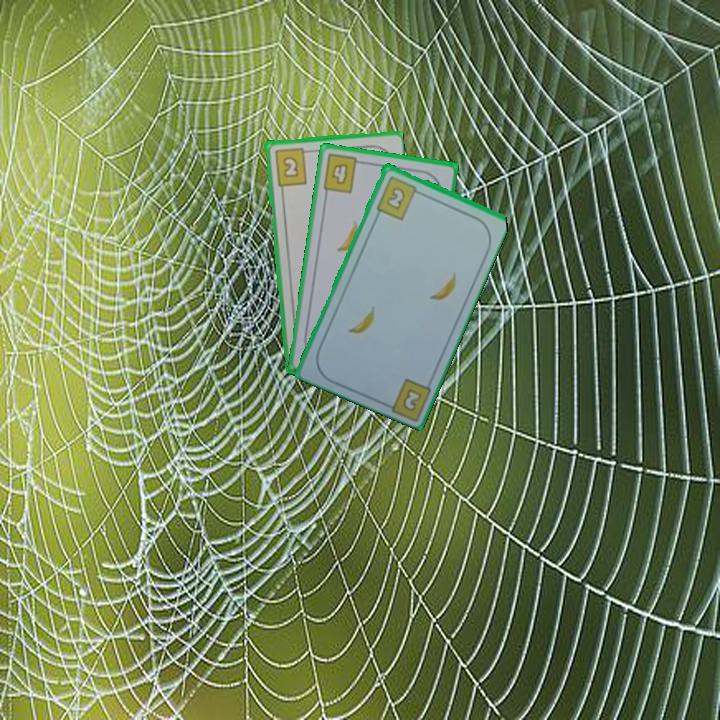2b: (373, 172, 424, 222), (271, 144, 313, 188), (399, 385, 425, 414)
4b: (319, 150, 367, 196)
